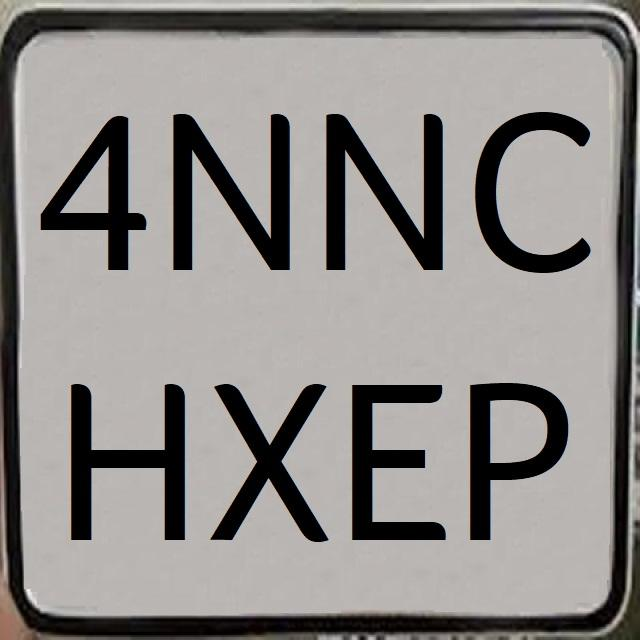4: (42, 92, 150, 280)
C: (471, 90, 600, 274)
E: (346, 372, 447, 558)
H: (62, 365, 194, 552)
N: (326, 91, 455, 287), (173, 85, 300, 284)
P: (463, 369, 573, 552)
X: (208, 364, 335, 555)
